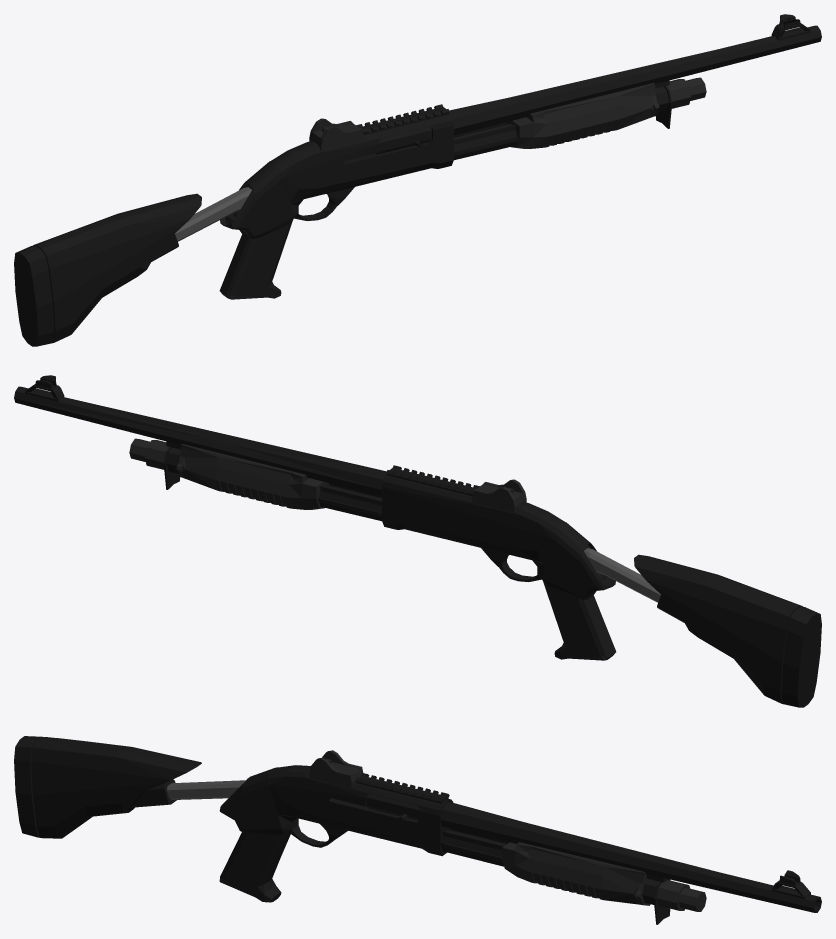
Rendered from Benelli M3 Super.fbx.
3 views of the same model, one above another, from view 1: azimuth 30°, elevation 25°; view 2: azimuth 150°, elevation 25°; view 3: azimuth 330°, elevation 25° (orthographic).
Visible parts, largest first — view 1: Base, Handguard, Rear Sight, Top Rail, Mag Cap, Bolt; view 2: Base, Handguard, Rear Sight, Top Rail, Mag Cap; view 3: Base, Handguard, Rear Sight, Mag Cap, Top Rail, Bolt.
Boxes of the visible parts, bbox=[...] form: Base: bbox=[14, 14, 821, 346]; Handguard: bbox=[507, 83, 659, 148]; Rear Sight: bbox=[309, 118, 363, 151]; Top Rail: bbox=[356, 104, 449, 135]; Mag Cap: bbox=[667, 77, 706, 108]; Bolt: bbox=[375, 126, 431, 154]; Base: bbox=[14, 375, 821, 707]; Handguard: bbox=[176, 444, 328, 509]; Rear Sight: bbox=[472, 479, 526, 512]; Top Rail: bbox=[386, 465, 479, 496]; Mag Cap: bbox=[129, 438, 168, 469]; Base: bbox=[14, 736, 821, 924]; Handguard: bbox=[502, 842, 650, 905]; Rear Sight: bbox=[309, 750, 363, 788]; Mag Cap: bbox=[656, 880, 706, 911]; Top Rail: bbox=[355, 773, 449, 803]; Bolt: bbox=[366, 793, 419, 821].
Bounding box in the file's own units: 290 × 55.3 × 13.3.
